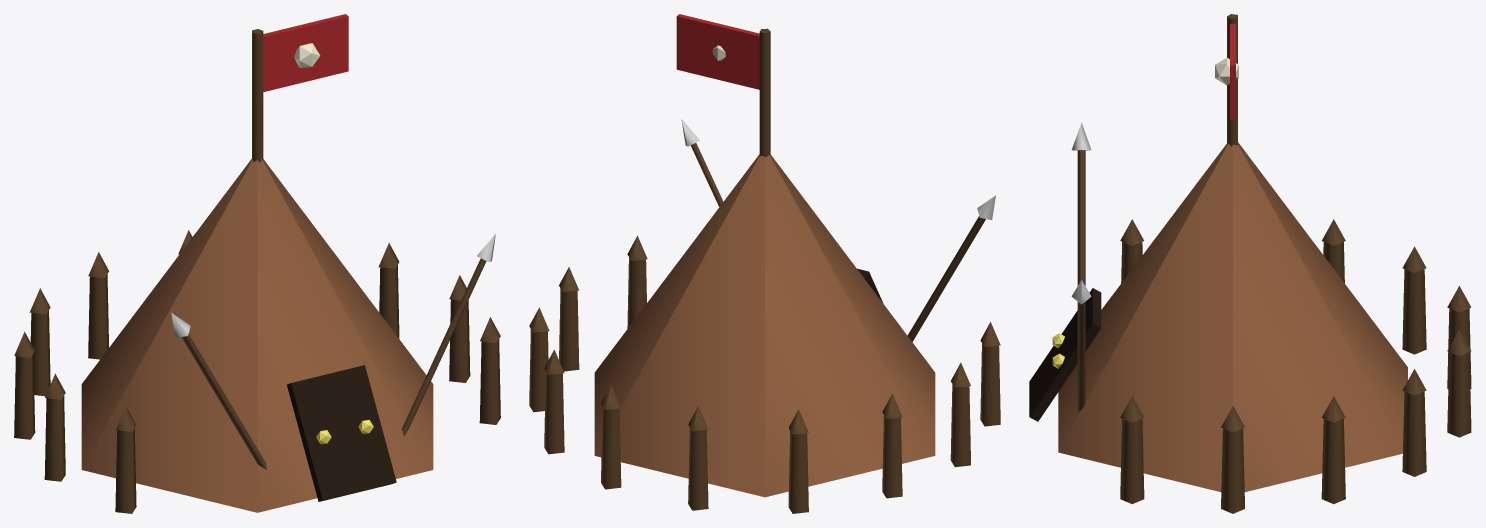
The model's file is goblin-level2.glb.
The picture shows the model from 3 angles, left to right: view 1: azimuth 30°, elevation 25°; view 2: azimuth 150°, elevation 25°; view 3: azimuth 270°, elevation 25°; orthographic projection. The views are drawn at different scales.
Bounding box in the file's own units: 2.57 × 2.28 × 2.32.
